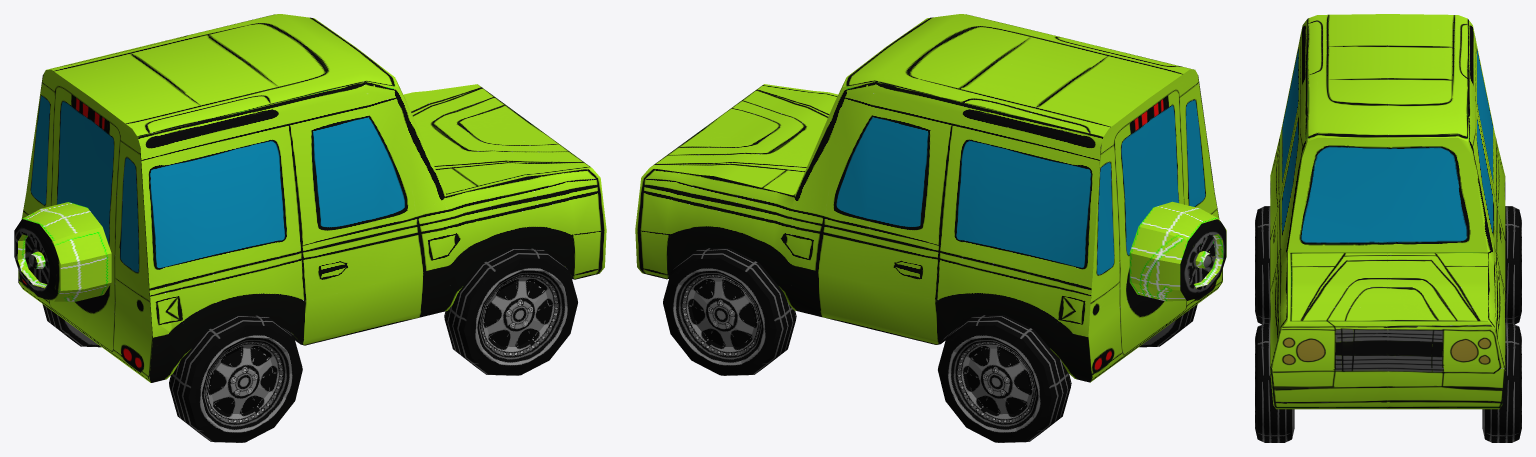
The model's file is Voiture 1.fbx.
3 views of the same model, side by side, from view 1: azimuth 30°, elevation 25°; view 2: azimuth 150°, elevation 25°; view 3: azimuth 270°, elevation 25° (orthographic). The views are drawn at different scales.
Parts seen in each view (by area): view 1: Plane003; view 2: Plane003; view 3: Plane003.
Part boxes in pixels (left/top/right/bottom): Plane003: left=14, top=14, right=606, bottom=442; Plane003: left=635, top=14, right=1226, bottom=442; Plane003: left=1255, top=14, right=1521, bottom=442.
Size of the model in its own units: 26 by 15.28 by 13.56.
2 materials, 2 textured.
